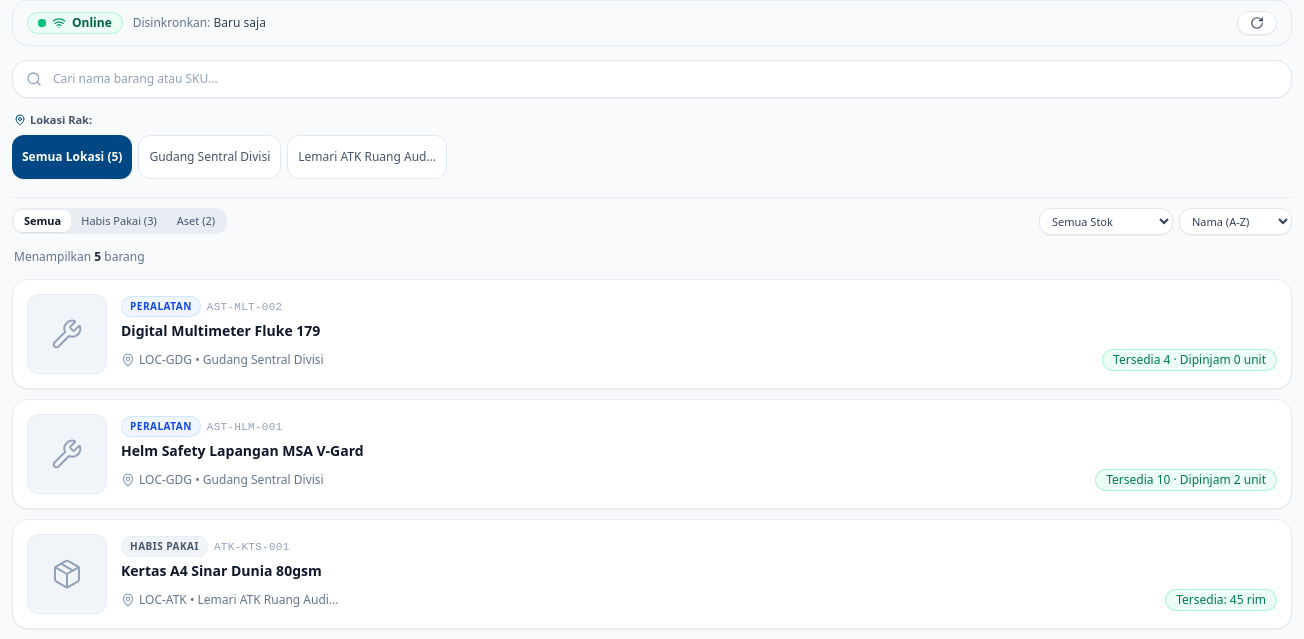
it: Catalog Feature Full Integration Test (Task P2.9) › filters items by stock status dropdown
Expected: the heading "Kertas A4 Sinar Dunia 80gsm" is shown, top-left (121, 561), bottom-right (322, 580)
Pilih status stok "low_or_empty"
Select "Menipis / Habis (2)" in the dropdown with test id "stock-filter-select" at (1106, 221), box top-left (1039, 208), bottom-right (1173, 234)
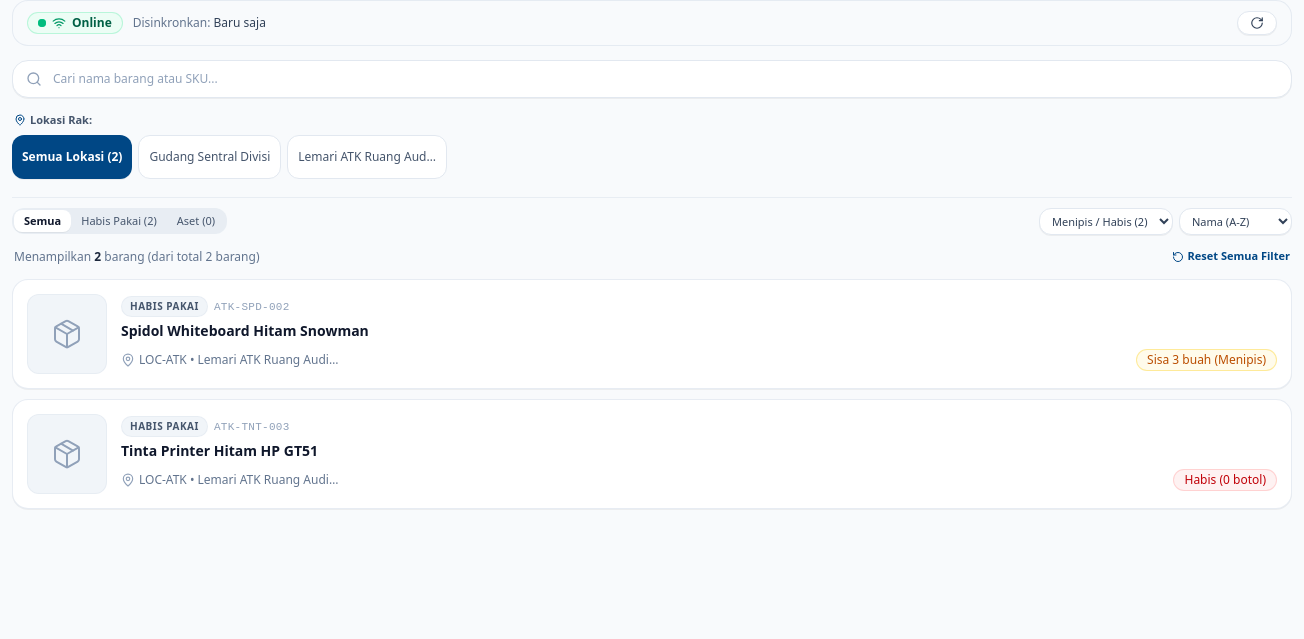
Expected: the heading "Tinta Printer Hitam HP GT51" is shown, top-left (121, 441), bottom-right (318, 460)
Expected: the button "Kertas A4 Sinar Dunia 80gsm" is gone
